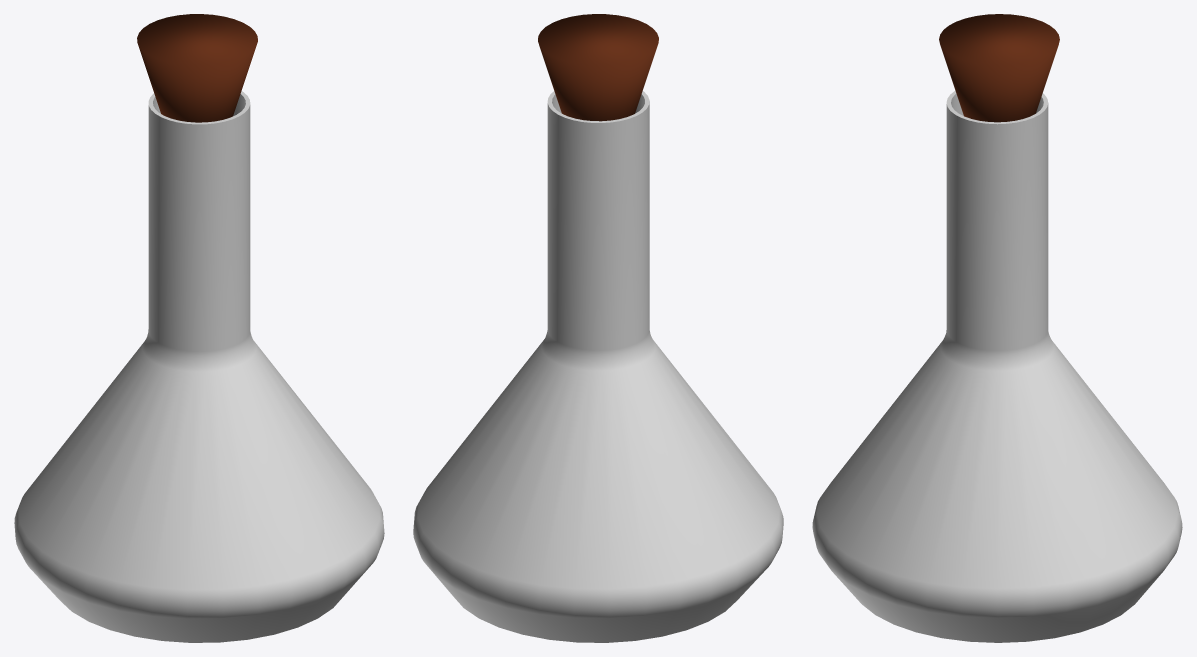
The model's file is fiole3.fbx.
The picture shows the model from 3 angles, left to right: view 1: azimuth 30°, elevation 25°; view 2: azimuth 150°, elevation 25°; view 3: azimuth 270°, elevation 25°; orthographic projection.
Visible parts, largest first — view 1: Fiole, Cylinder; view 2: Fiole, Cylinder; view 3: Fiole, Cylinder.
Part boxes in pixels (left/top/right/bottom): Fiole: left=14, top=91, right=384, bottom=642; Cylinder: left=137, top=14, right=257, bottom=122; Fiole: left=413, top=91, right=783, bottom=642; Cylinder: left=538, top=14, right=658, bottom=121; Fiole: left=812, top=90, right=1182, bottom=642; Cylinder: left=939, top=14, right=1059, bottom=122.
Bounding box in the file's own units: 250 × 403 × 250.
